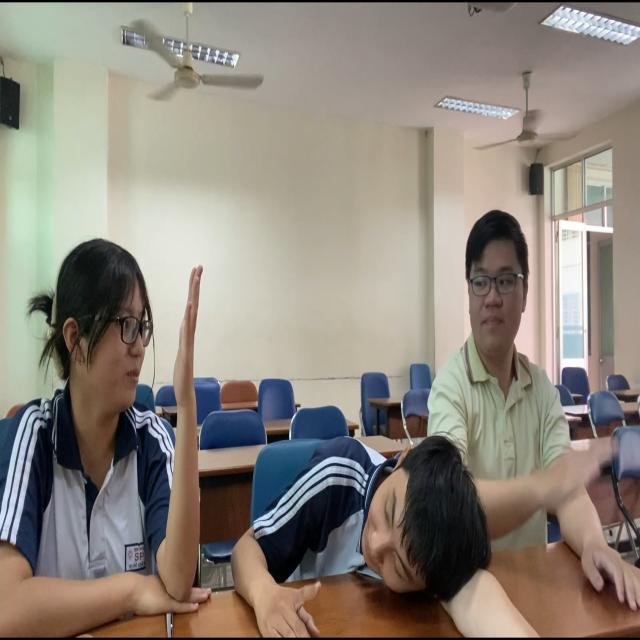raise_hand: (2, 201, 216, 640)
